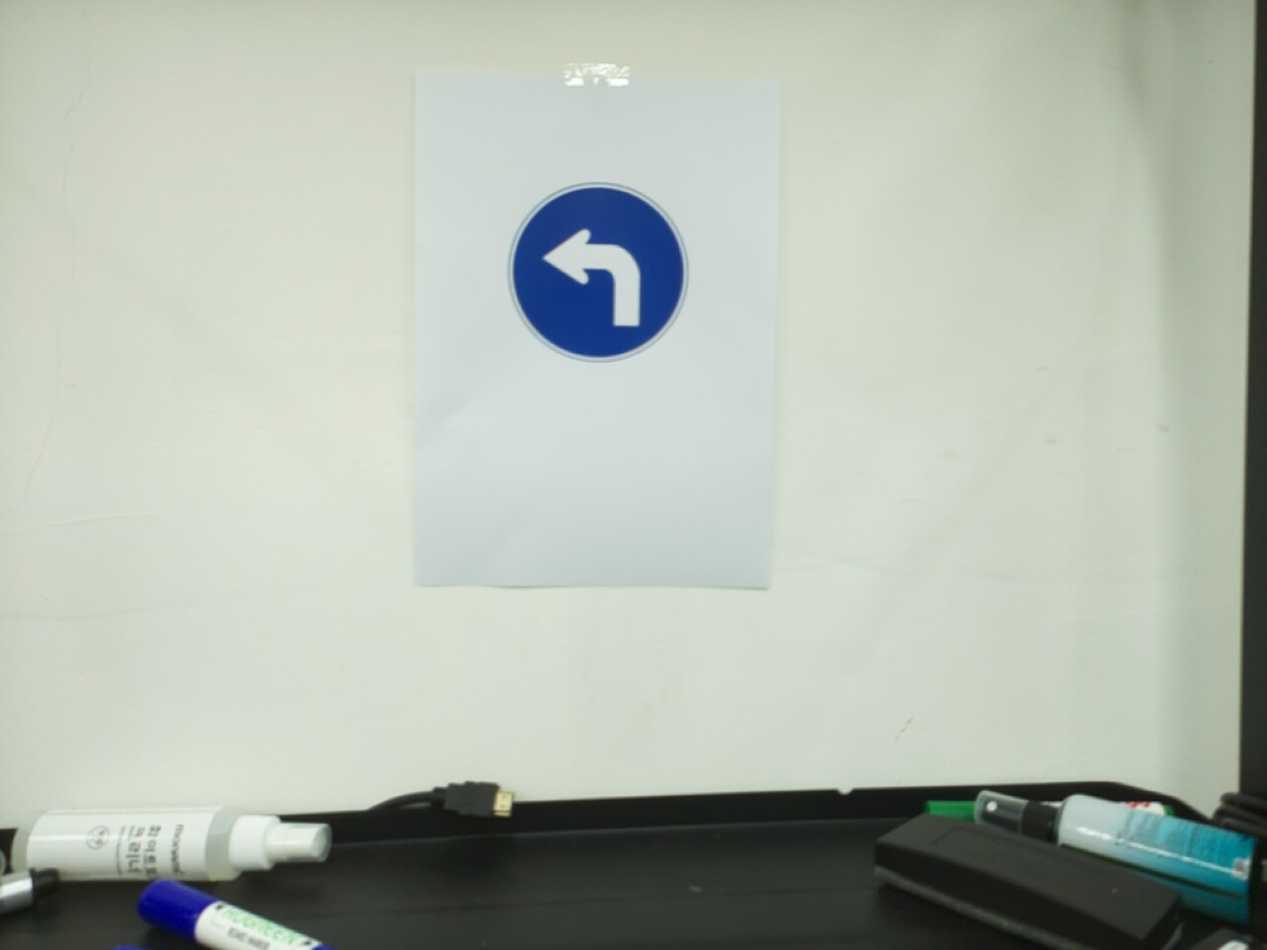left_turn: (506, 180, 691, 364)
